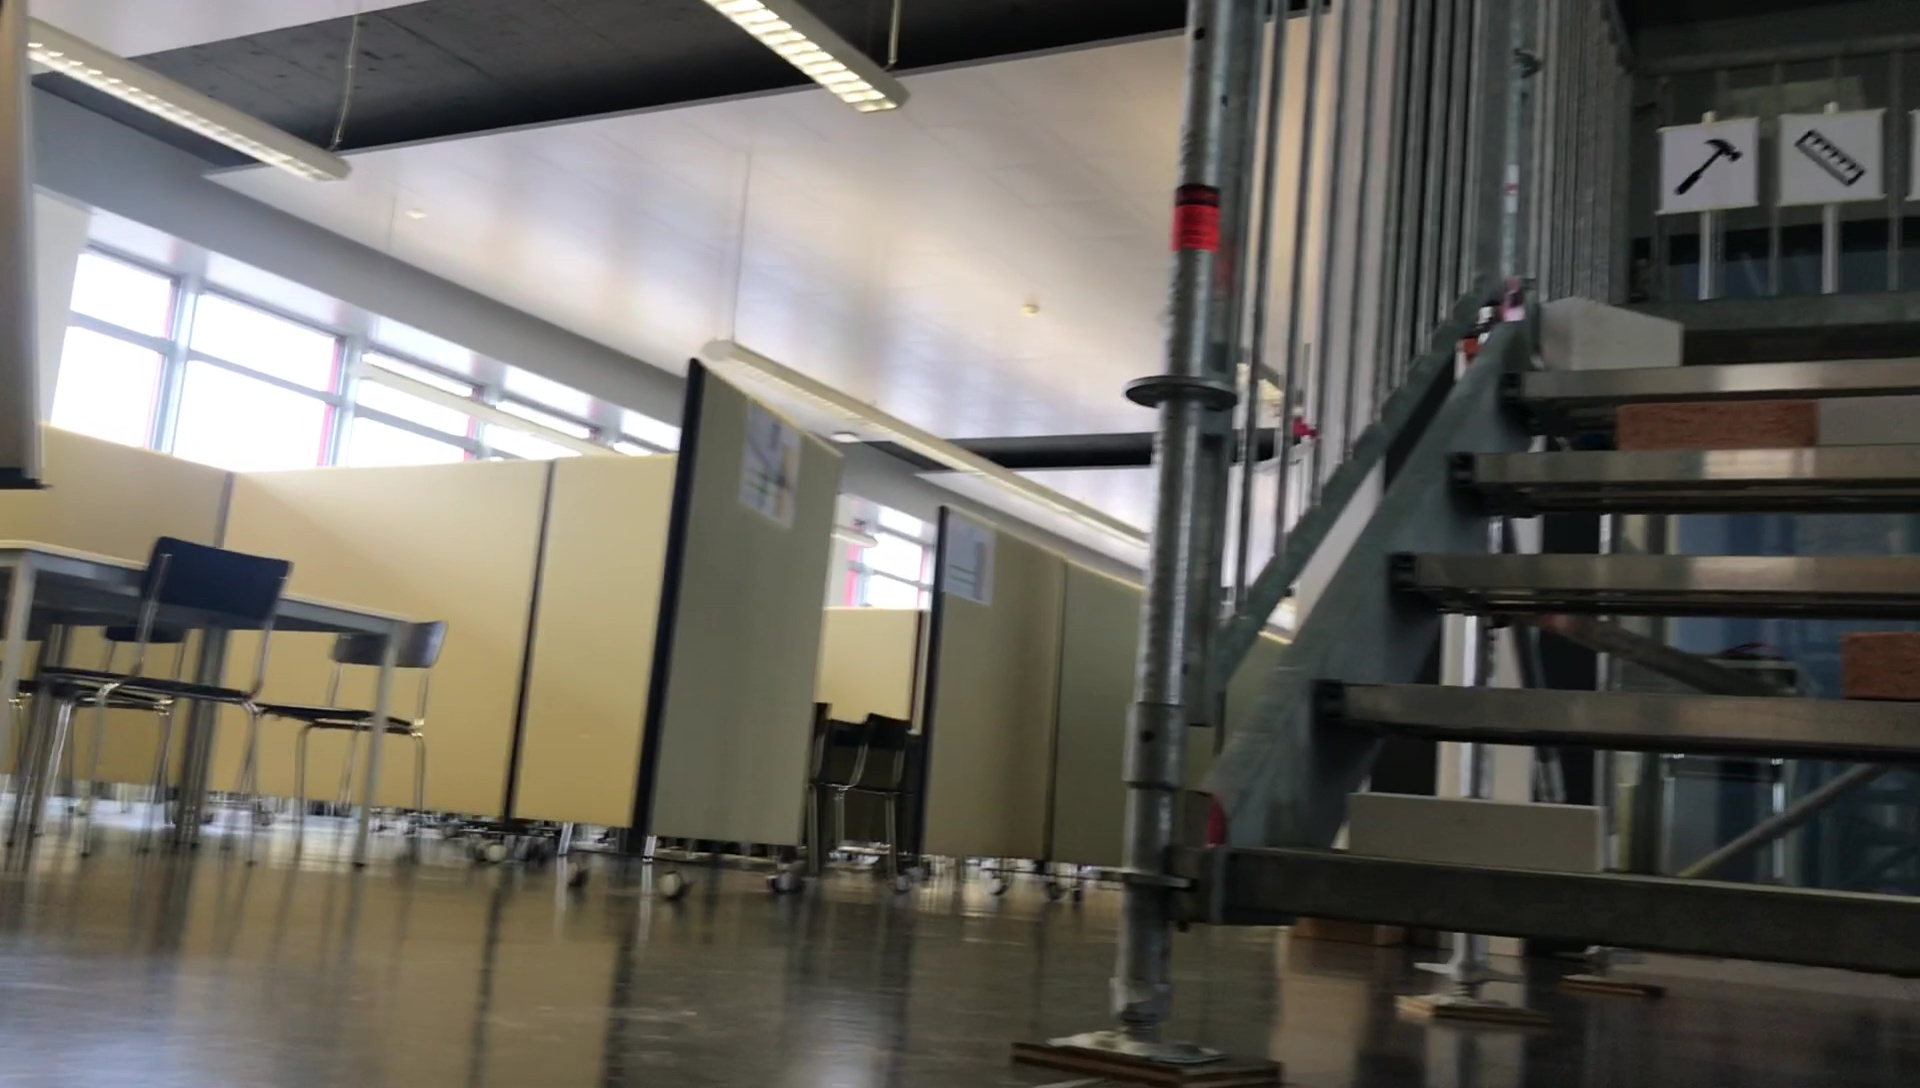brick: (1348, 794, 1607, 855), (1542, 294, 1684, 368), (1615, 398, 1816, 450), (1847, 633, 1920, 711), (1811, 400, 1920, 448)
edge: (1230, 852, 1920, 950), (1315, 680, 1920, 741), (1383, 541, 1920, 600), (1449, 452, 1920, 487), (1539, 287, 1911, 318), (1499, 372, 1920, 397)
hammer: (1675, 129, 1747, 199)
ruler: (1791, 123, 1869, 189)
stairs: (1117, 0, 1920, 1072)
steps: (1176, 285, 1920, 947)
